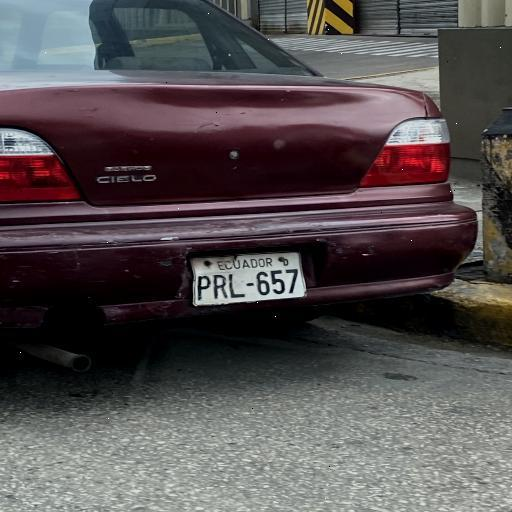license_plate: (227, 272, 245, 299), (269, 269, 285, 295), (213, 273, 228, 300), (285, 268, 300, 294), (256, 272, 272, 296), (197, 276, 211, 301)
